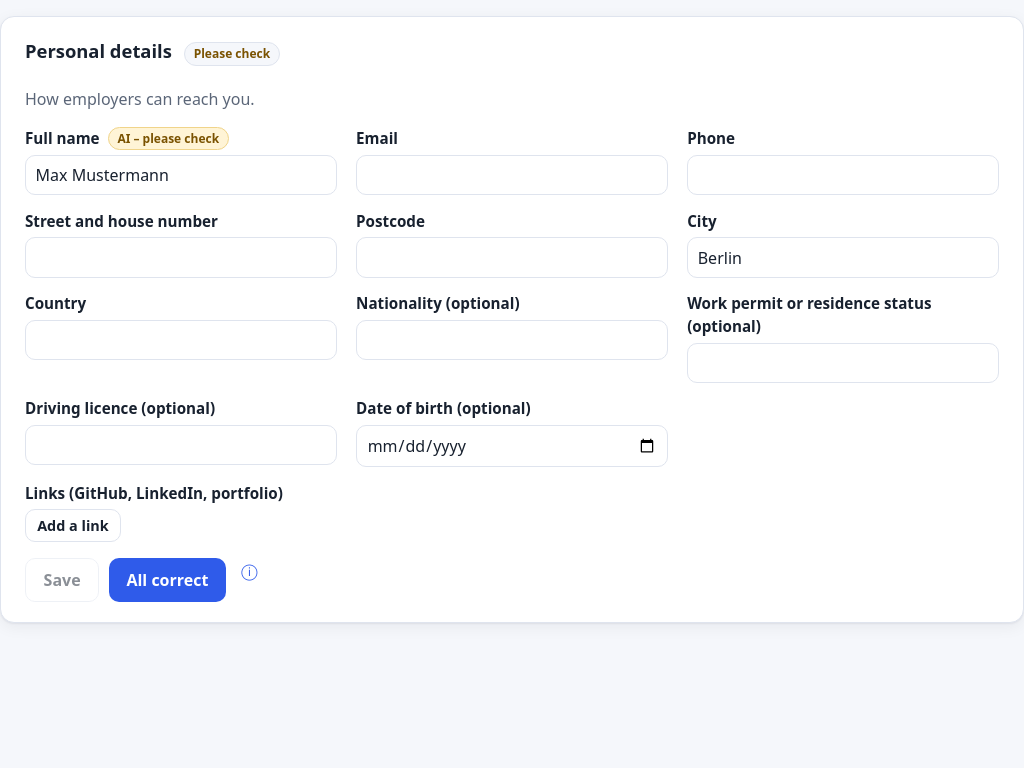
SectionCard › saves changes; the server decides which marks remain
Replace the text in the field labelled "Full name" with "Max Muster" at (181, 175), box x1=25 y1=155 x2=337 y2=195
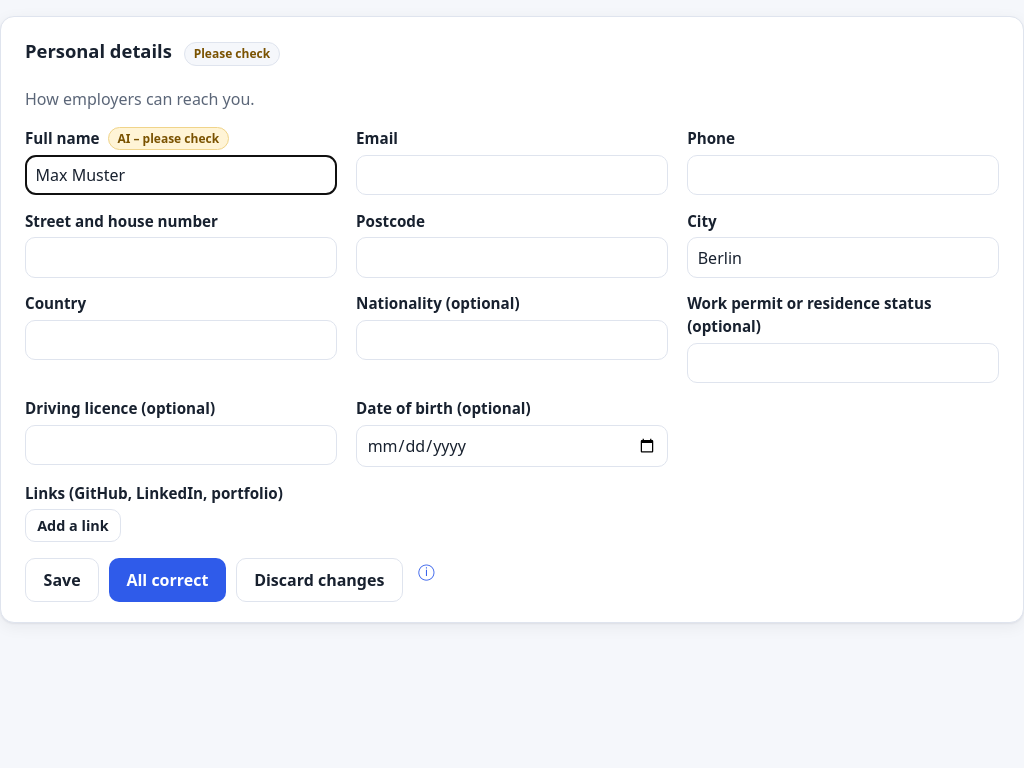
Click the button "Save".
click(62, 580)  # box x1=25 y1=558 x2=99 y2=602
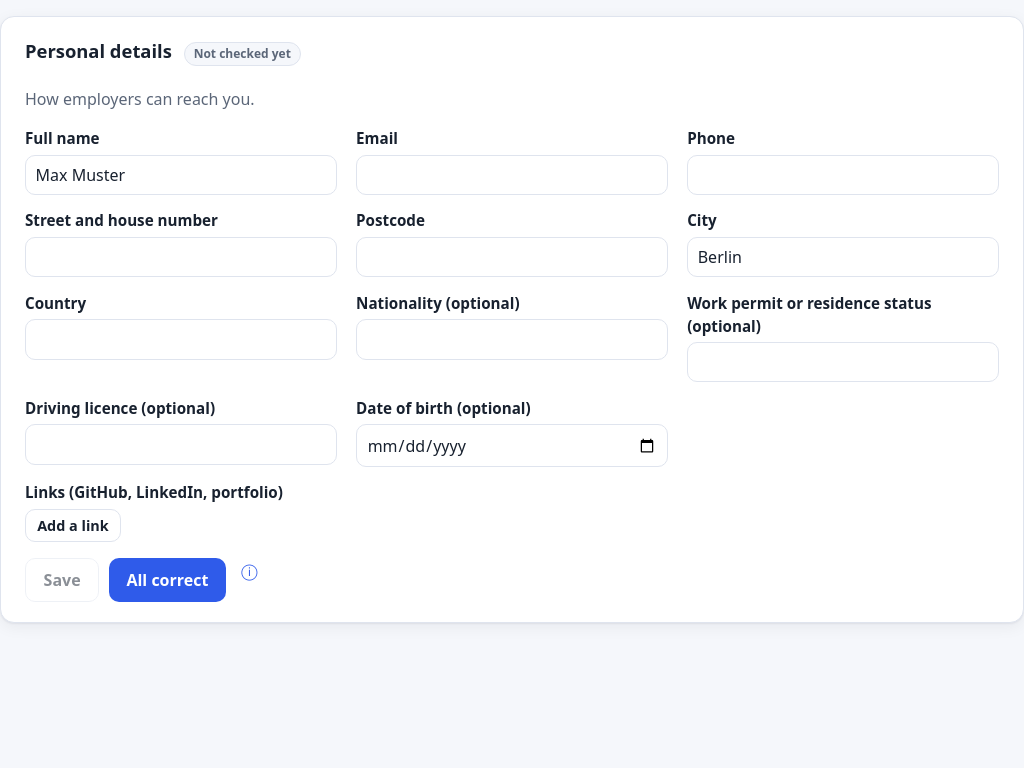
expect the field showing "Max Muster" is shown: met, box x1=25 y1=155 x2=337 y2=195
expect the text "AI – please check" is gone: met
